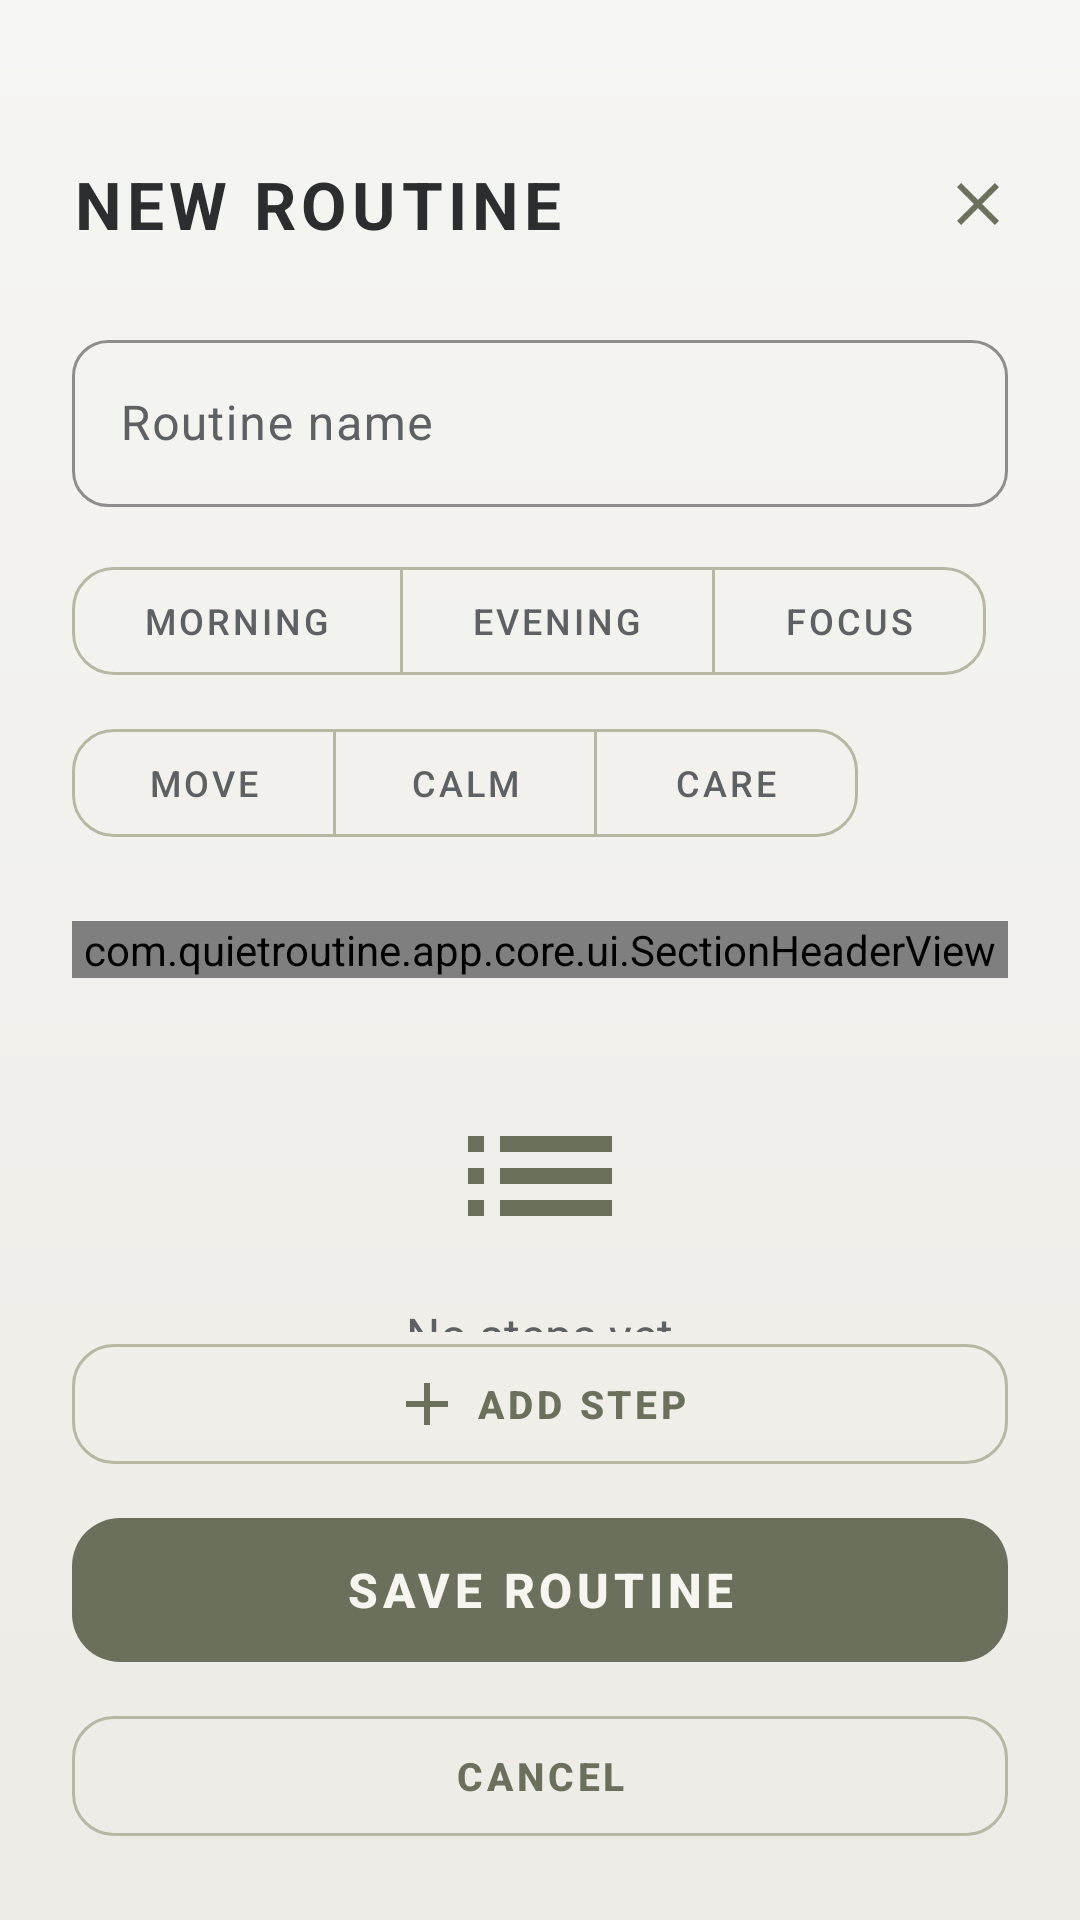

Locate icon controls on the screen. Image size 1080x1920, boxes as box=[x1, y1, x2, y2].
Close: box=[957, 183, 999, 225]
No steps illustration: box=[468, 1136, 612, 1216]
